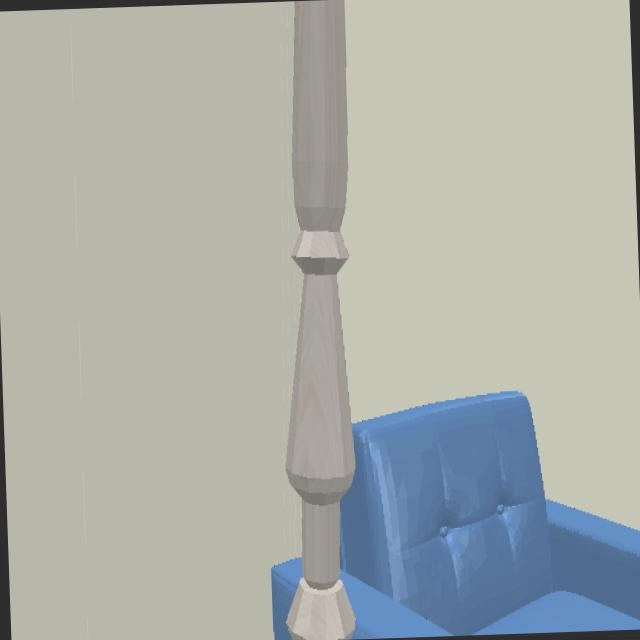sofa: (340, 393, 640, 637), (272, 557, 301, 639)
